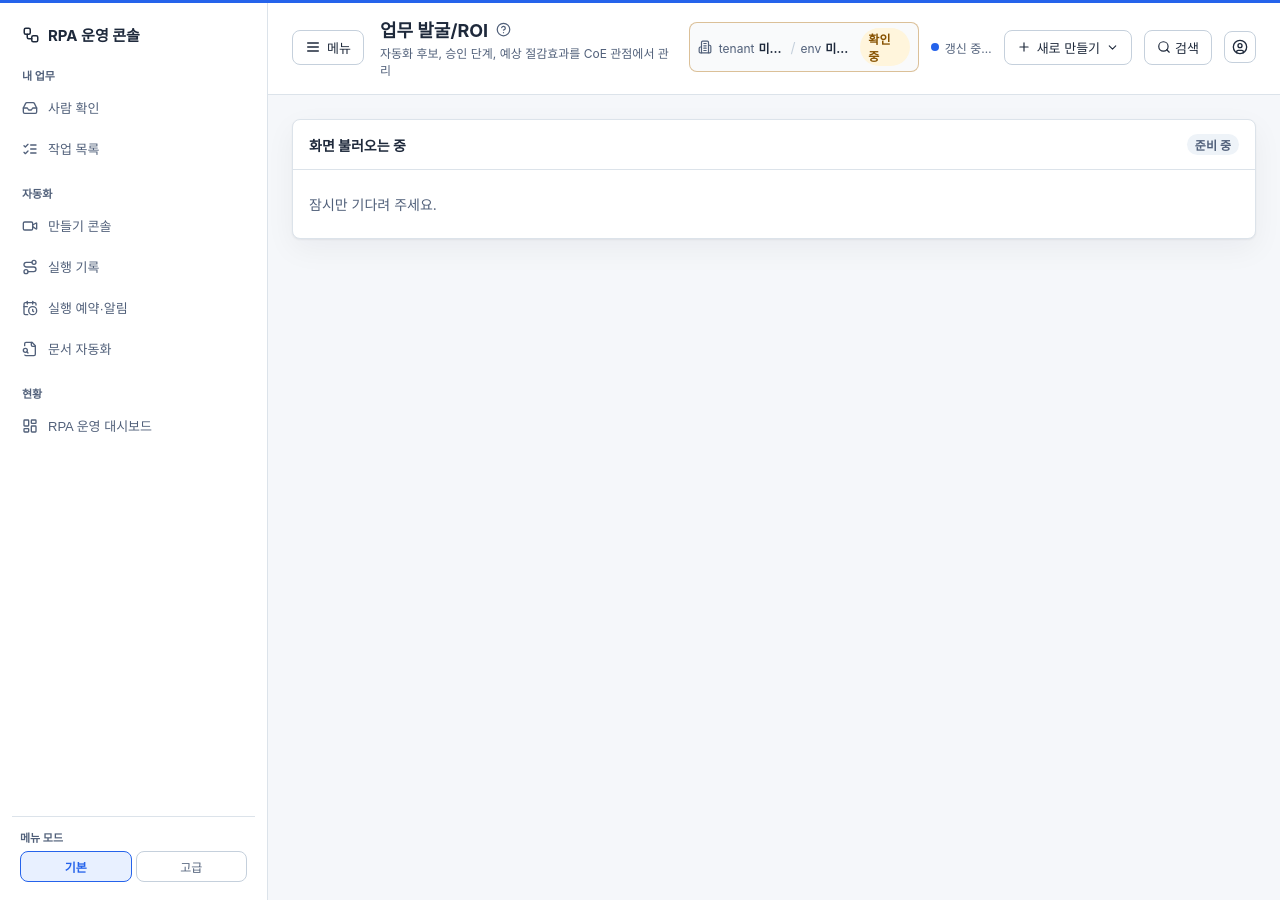
Scenario: mobile drawer navigation › hidden direct URL renders the view but stays out of the mobile drawer
Check: the heading "업무 발굴/ROI" is shown, box [380, 16, 488, 42]
Click the button "메뉴": click(328, 47) [292, 30, 364, 64]
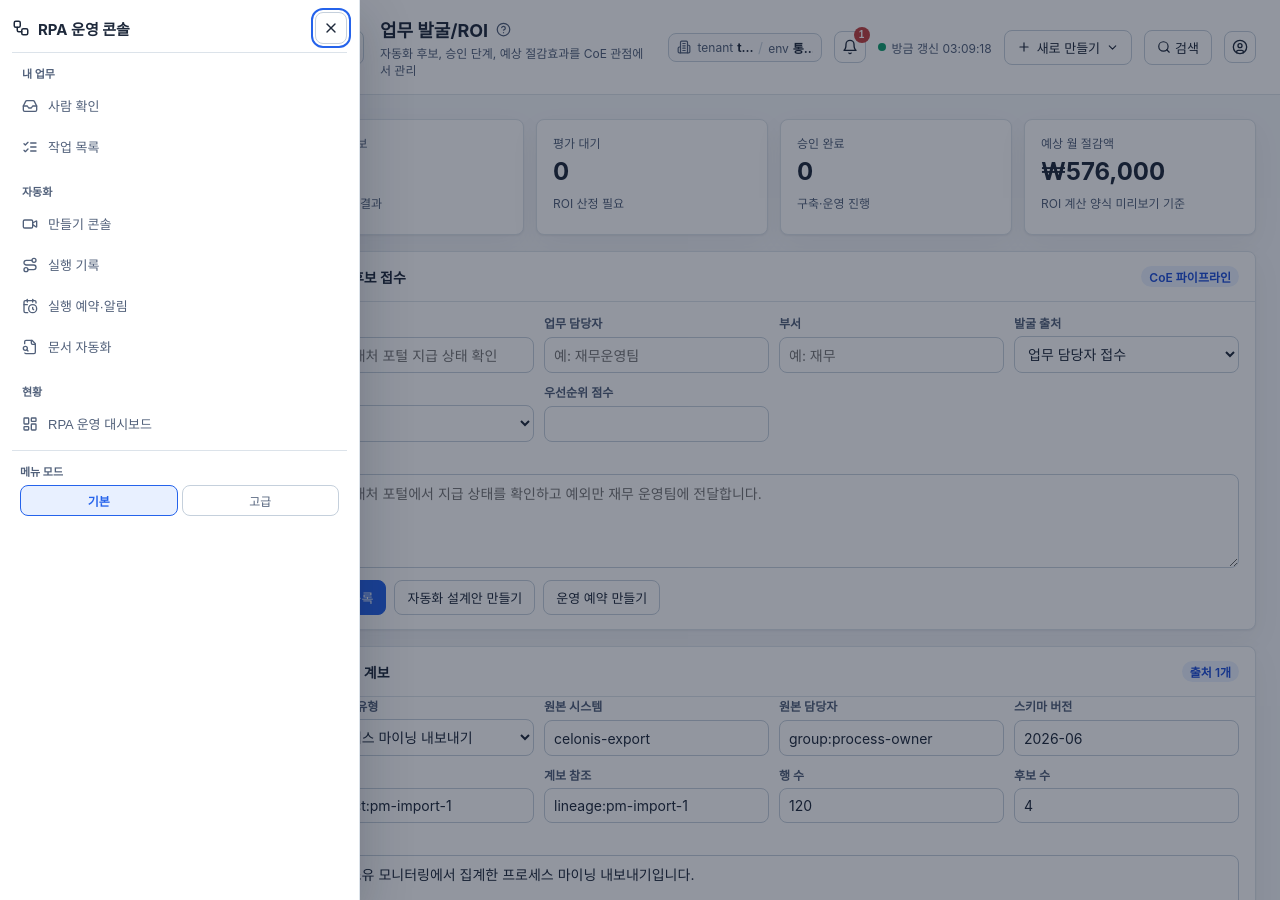
Check: the button "실행 기록" is shown, box [12, 246, 345, 283]
